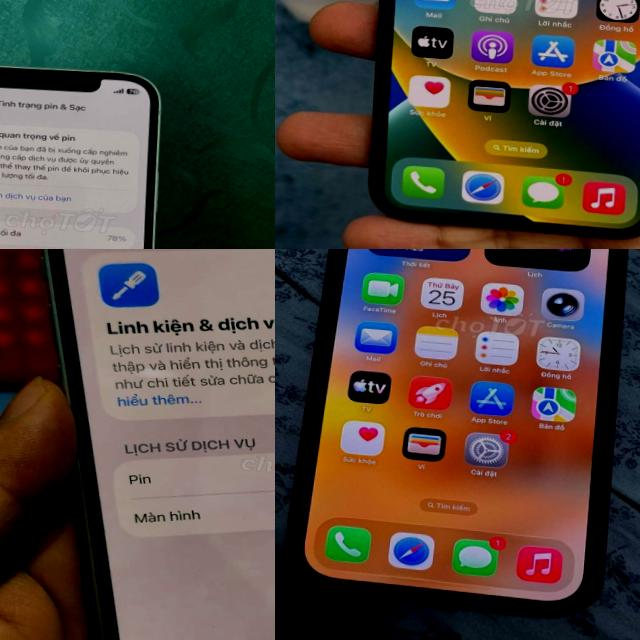gen_11: (345, 0, 640, 246)
gen_12_13: (0, 249, 275, 640), (0, 52, 180, 249)
gen_14: (275, 249, 640, 630)
